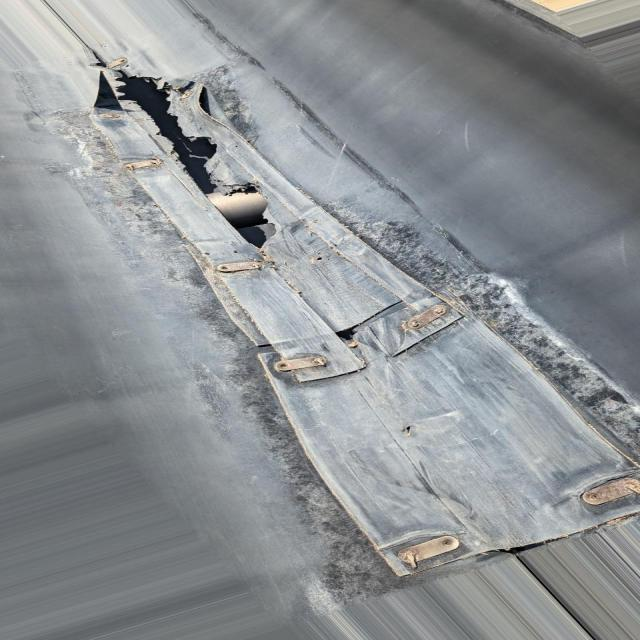Hole: (113, 71, 273, 252)
patch work: (78, 67, 640, 582)
